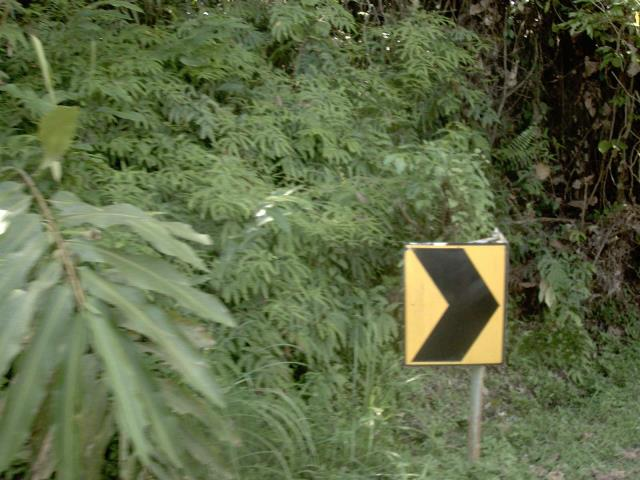traffic_sign: (386, 224, 519, 384)
